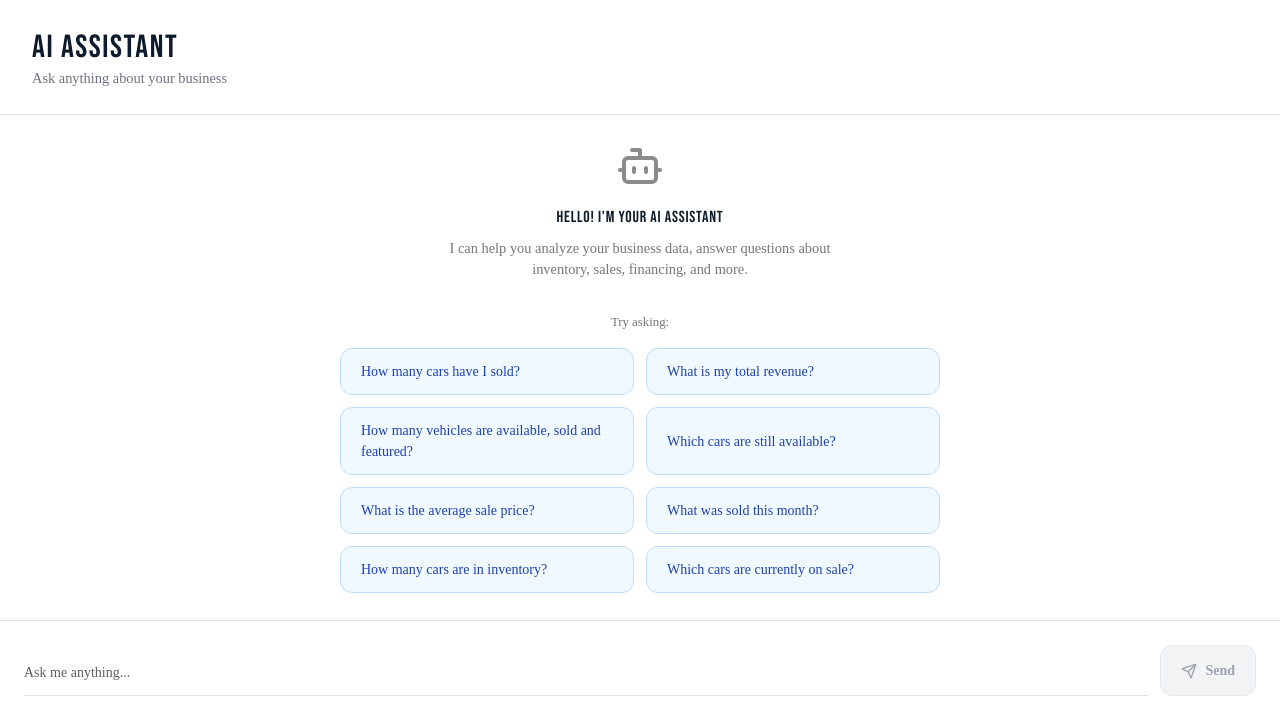
AdminAI - session persistence (navigation-safe conversation) › does not crash when sessionStorage.setItem throws (quota exceeded)
Type "a question" into the field with placeholder "Ask me anything..." at (586, 670), box [24,645,1148,696]
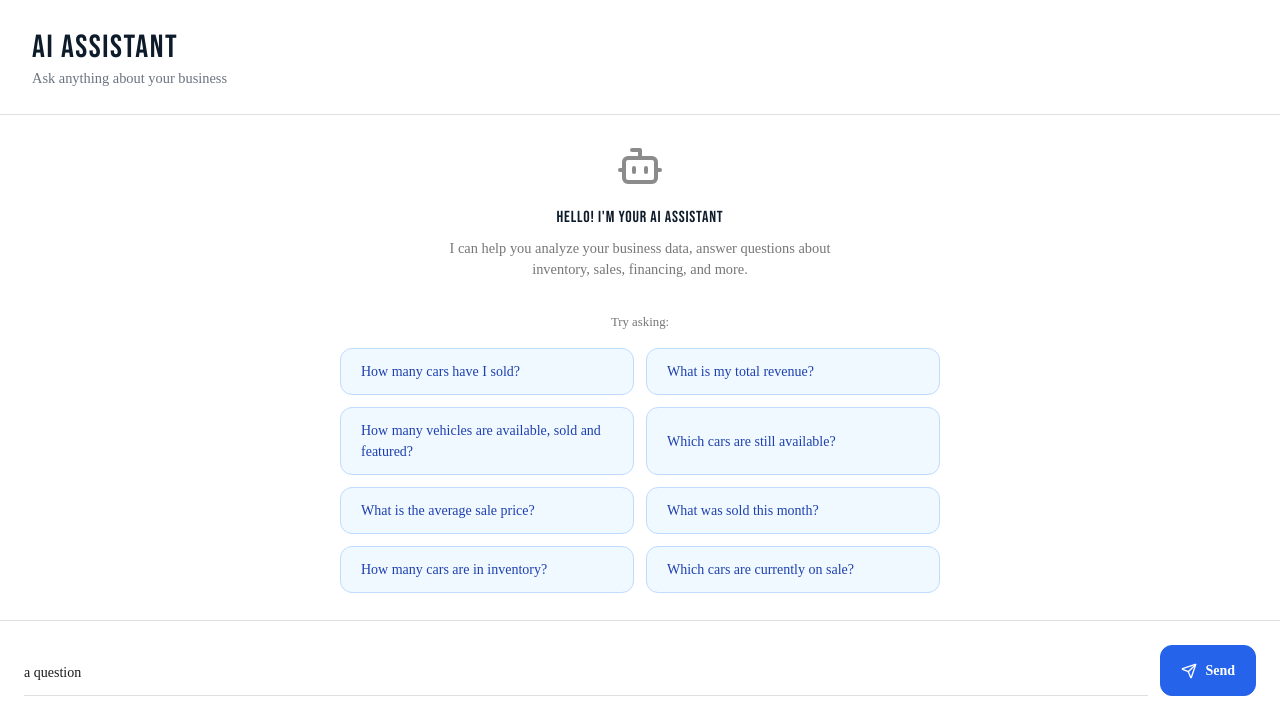
Click the button with id "admin-ai-send-button" at (1208, 670), box [1160,645,1256,696]
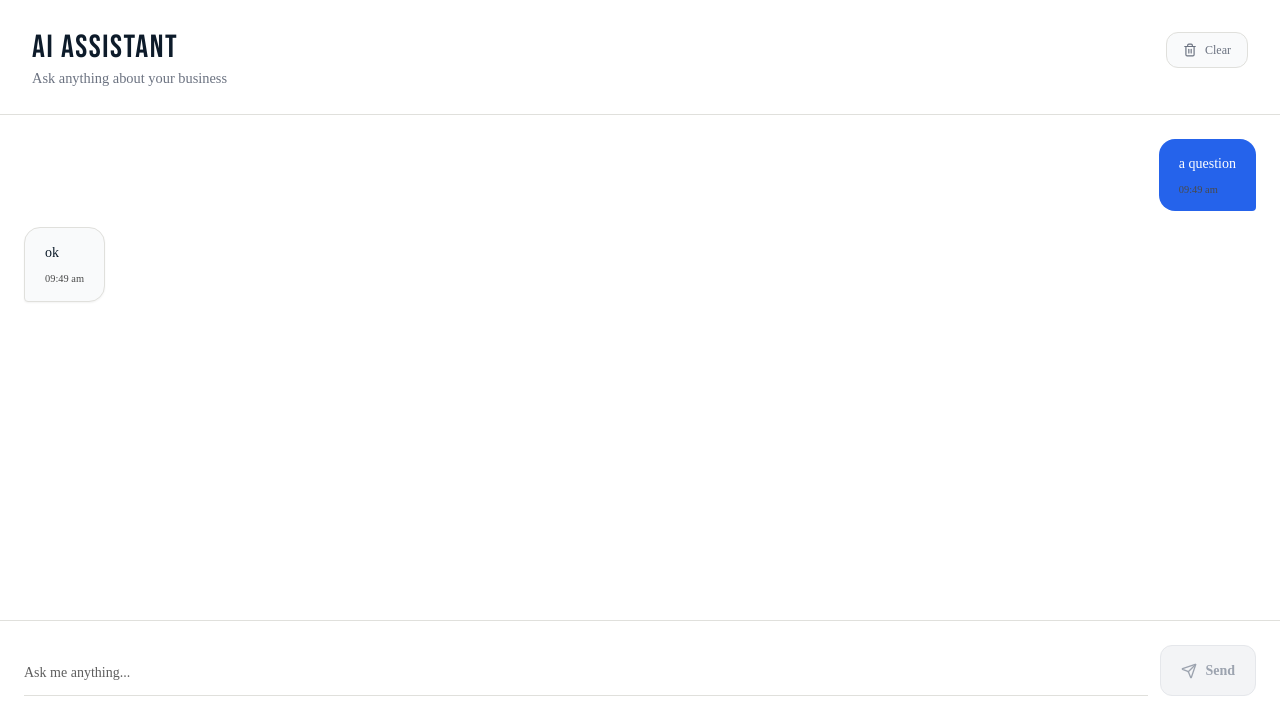
Expected: the text "ok" is shown, [45,245,59,260]
